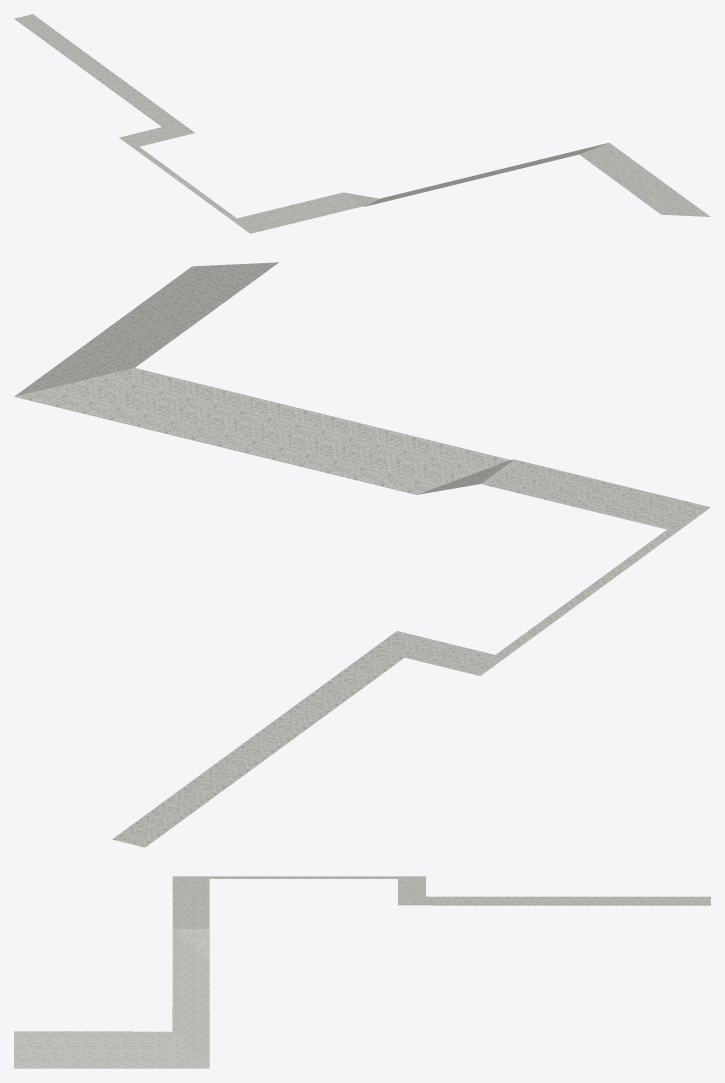
Rendered from kd_stage_1363c5_9_13_bounded.glb.
3 views of the same model, one above another, from view 1: azimuth 30°, elevation 25°; view 2: azimuth 150°, elevation 25°; view 3: azimuth 270°, elevation 25° (orthographic). The views are drawn at different scales.
Parts seen in each view (by area): view 1: kd_stage_1363c5_9_13_bounded; view 2: kd_stage_1363c5_9_13_bounded; view 3: kd_stage_1363c5_9_13_bounded.
Boxes of the visible parts, <box> form: kd_stage_1363c5_9_13_bounded: <box>14,14,710,233</box>; kd_stage_1363c5_9_13_bounded: <box>14,262,710,847</box>; kd_stage_1363c5_9_13_bounded: <box>14,876,710,1068</box>.
Size of the model in its own units: 33.81 by 1.3 by 56.02.
1 material, 1 textured.
